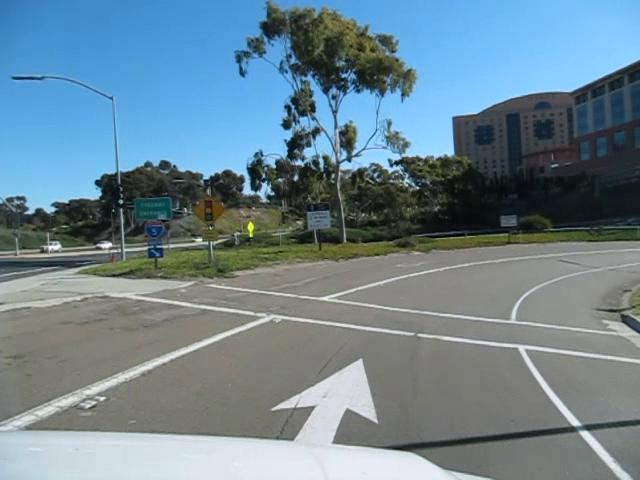signalAhead: (191, 193, 226, 228)
